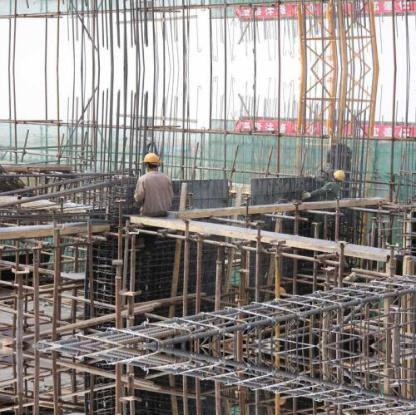helmet: (139, 147, 167, 169), (331, 166, 348, 186)
